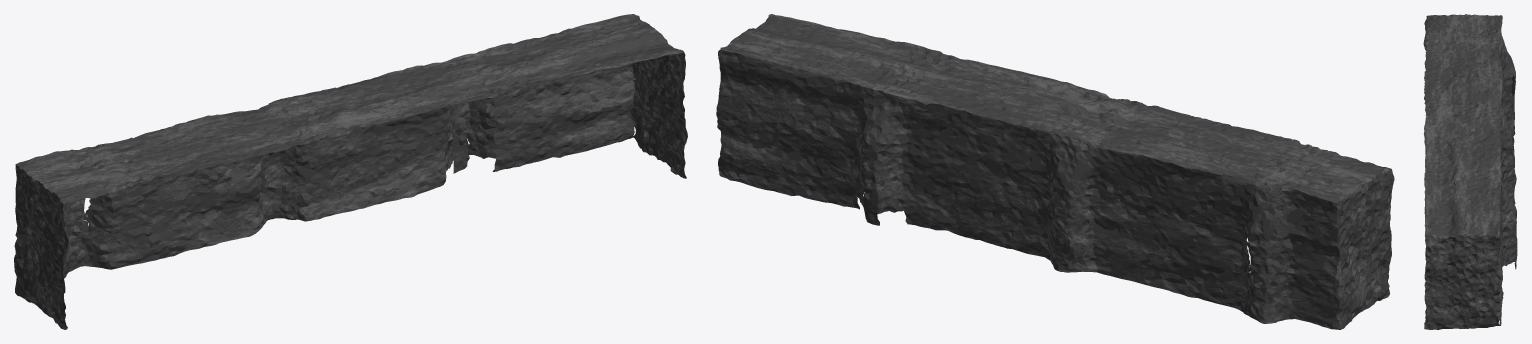
Rendered from Hallway.fbx.
3 renders of one model, left to right at view 1: azimuth 30°, elevation 25°; view 2: azimuth 150°, elevation 25°; view 3: azimuth 270°, elevation 25°, orthographic. The views are drawn at different scales.
Parts seen in each view (by area): view 1: Object.002; view 2: Object.002; view 3: Object.002.
Boxes of the visible parts, x1,y1,x2,y2 form: Object.002: [14, 14, 687, 329]; Object.002: [716, 14, 1394, 329]; Object.002: [1423, 14, 1517, 329].
Size of the model in its own units: 9053 by 1853 by 1607.
1 material, 1 textured.
